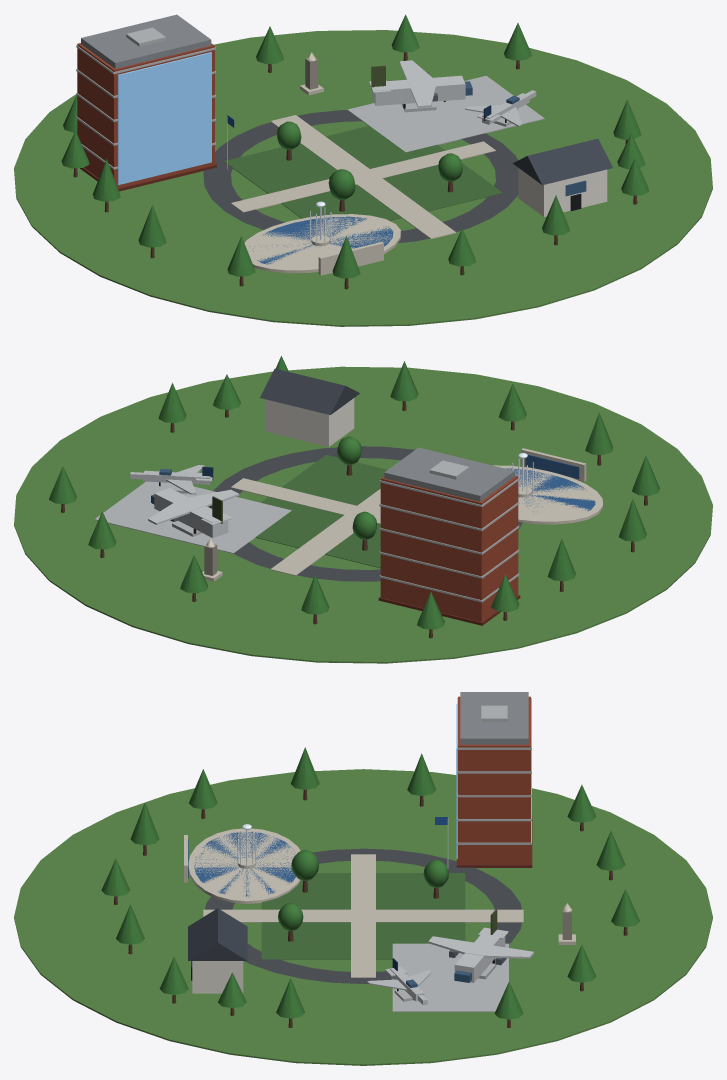
The model's file is boramae-park.glb.
The picture shows the model from 3 angles, top to bottom: view 1: azimuth 30°, elevation 25°; view 2: azimuth 150°, elevation 25°; view 3: azimuth 270°, elevation 25°; orthographic projection.
Bounding box in the file's own units: 96 × 20.05 × 96.
